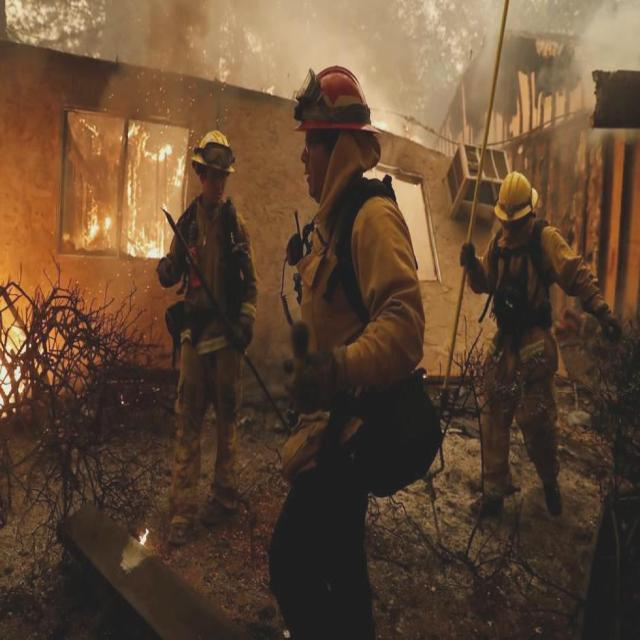Fire: (67, 108, 189, 262), (0, 330, 43, 424)
Smoke: (104, 0, 637, 102)
